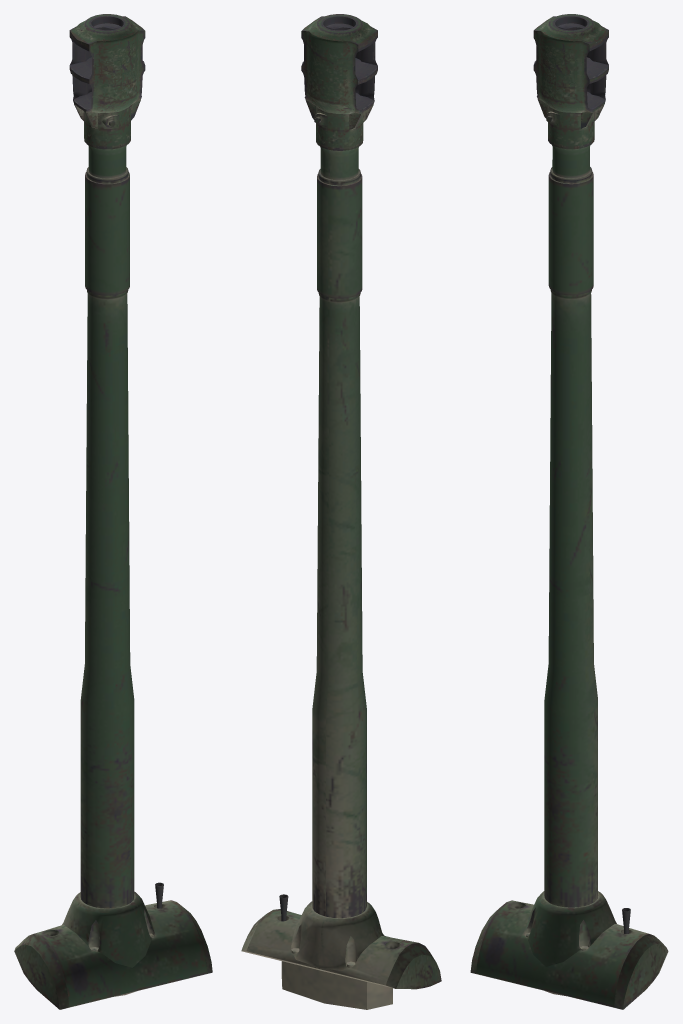
The model's file is Gun_03.glb.
The picture shows the model from 3 angles, left to right: view 1: azimuth 30°, elevation 25°; view 2: azimuth 150°, elevation 25°; view 3: azimuth 330°, elevation 25°; orthographic projection.
Visible parts, largest first — view 1: set_0_group_0; view 2: set_0_group_0; view 3: set_0_group_0.
Boxes of the visible parts, box(x1,y1,x2,y2) form: set_0_group_0: box(14, 14, 212, 1009); set_0_group_0: box(241, 14, 441, 1009); set_0_group_0: box(470, 14, 668, 1009).
Bounding box in the file's own units: 1 × 5.53 × 0.517.
1 material, 1 textured.
